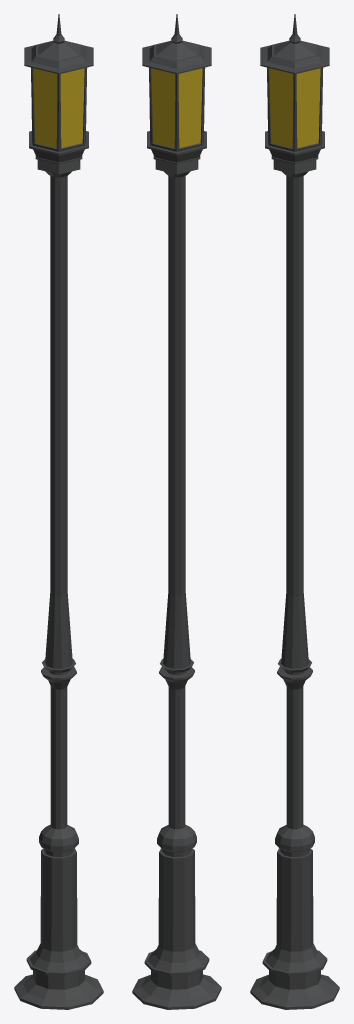
File: SM_streetlamp_german_02.fbx
3 renders of one model, left to right at view 1: azimuth 30°, elevation 25°; view 2: azimuth 150°, elevation 25°; view 3: azimuth 330°, elevation 25°, orthographic.
Parts seen in each view (by area): view 1: Cylinder004; view 2: Cylinder004; view 3: Cylinder004.
Boxes of the visible parts, bbox=[...] form: Cylinder004: bbox=[14, 14, 103, 1009]; Cylinder004: bbox=[132, 14, 221, 1009]; Cylinder004: bbox=[250, 14, 339, 1009].
Size of the model in its own units: 12.47 by 11.86 by 150.
